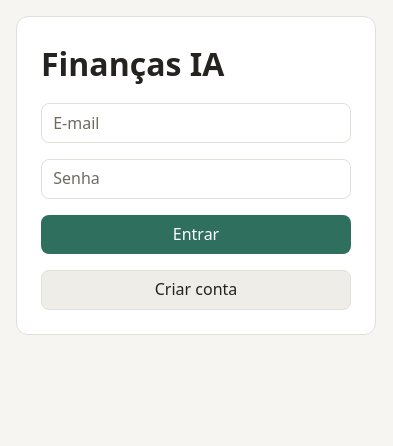
it: LoginView › mostra a mensagem de cadastro não permitido (403) e não entra
This screenshot has width=393, height=446.
Click the button "Criar conta" at (196, 290), box [41, 270, 351, 310]
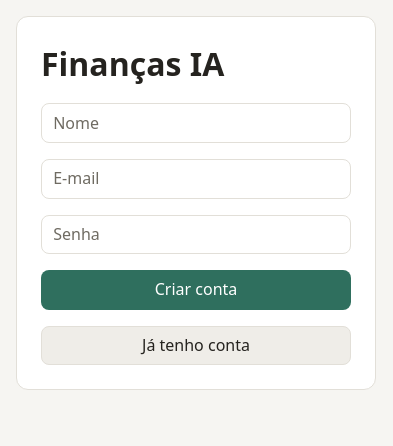
Type "Intruso" into the field with placeholder "Nome" at (196, 123), box [41, 103, 351, 143]
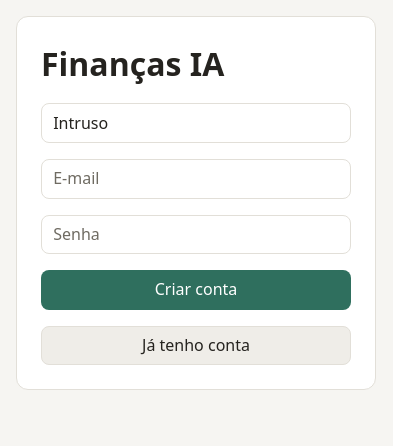
Type "x@example.com" into the field with placeholder "E-mail" at (196, 179), box [41, 159, 351, 199]
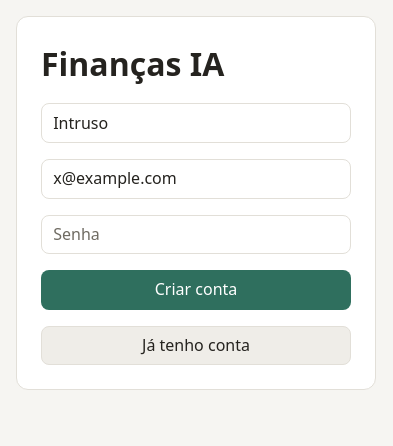
Type "senha-forte-123" into the password field with placeholder "Senha" at (196, 234), box [41, 214, 351, 254]
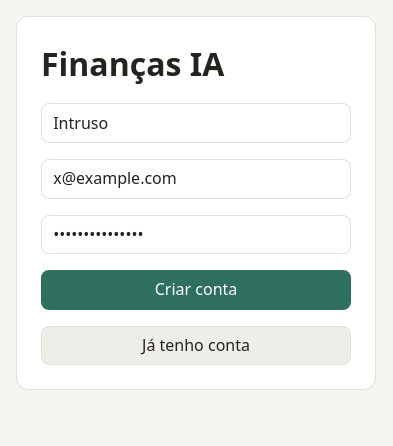
Click the button "Criar conta" at (196, 290), box [41, 270, 351, 310]
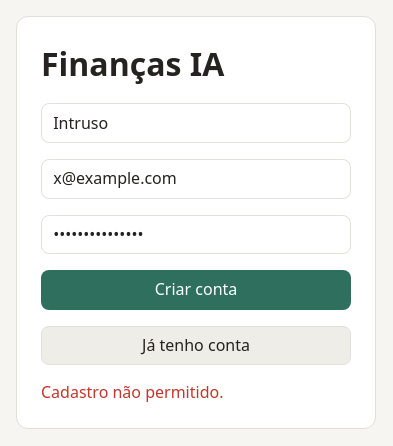
Check: the text "Cadastro não permitido." is shown, box [41, 381, 224, 403]
